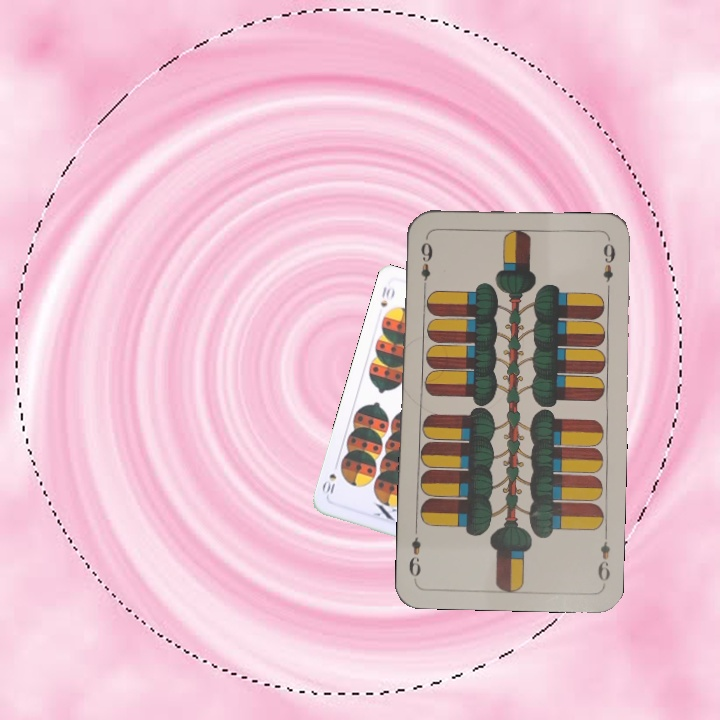E9: (593, 528, 613, 584), (417, 238, 435, 292)
S10: (376, 283, 397, 309)
